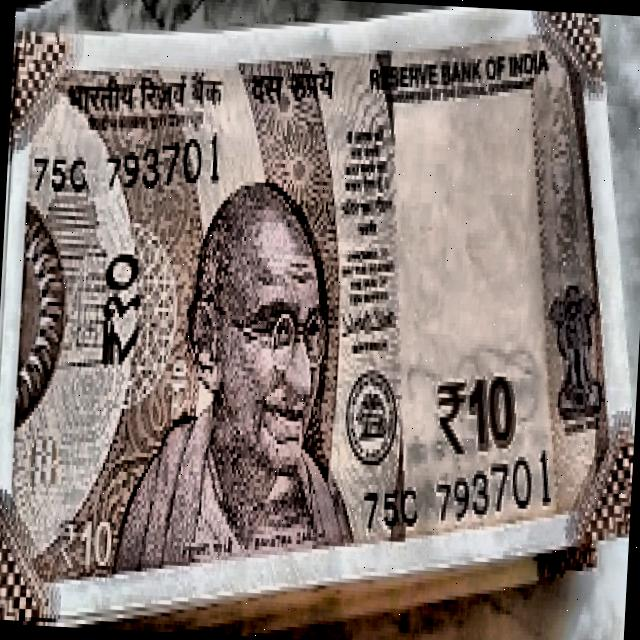-10-: (0, 19, 640, 546)
